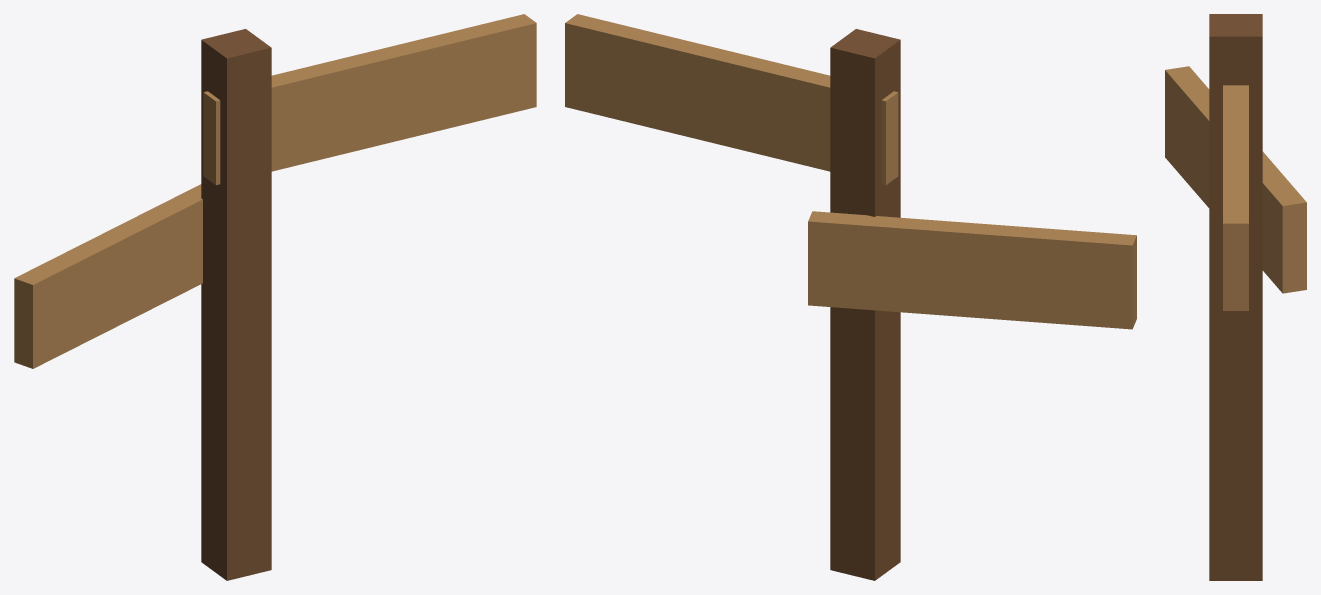
Rendered from signpost.glb.
3 renders of one model, left to right at view 1: azimuth 30°, elevation 25°; view 2: azimuth 150°, elevation 25°; view 3: azimuth 270°, elevation 25°, orthographic. The views are drawn at different scales.
Parts seen in each view (by area): view 1: signpost; view 2: signpost; view 3: signpost.
Part boxes in pixels (x1=…): signpost: x1=14, y1=14, x2=536, y2=580; signpost: x1=565, y1=14, x2=1136, y2=580; signpost: x1=1165, y1=14, x2=1306, y2=580.
Bounding box in the file's own units: 3.02 × 2.8 × 0.6614.
